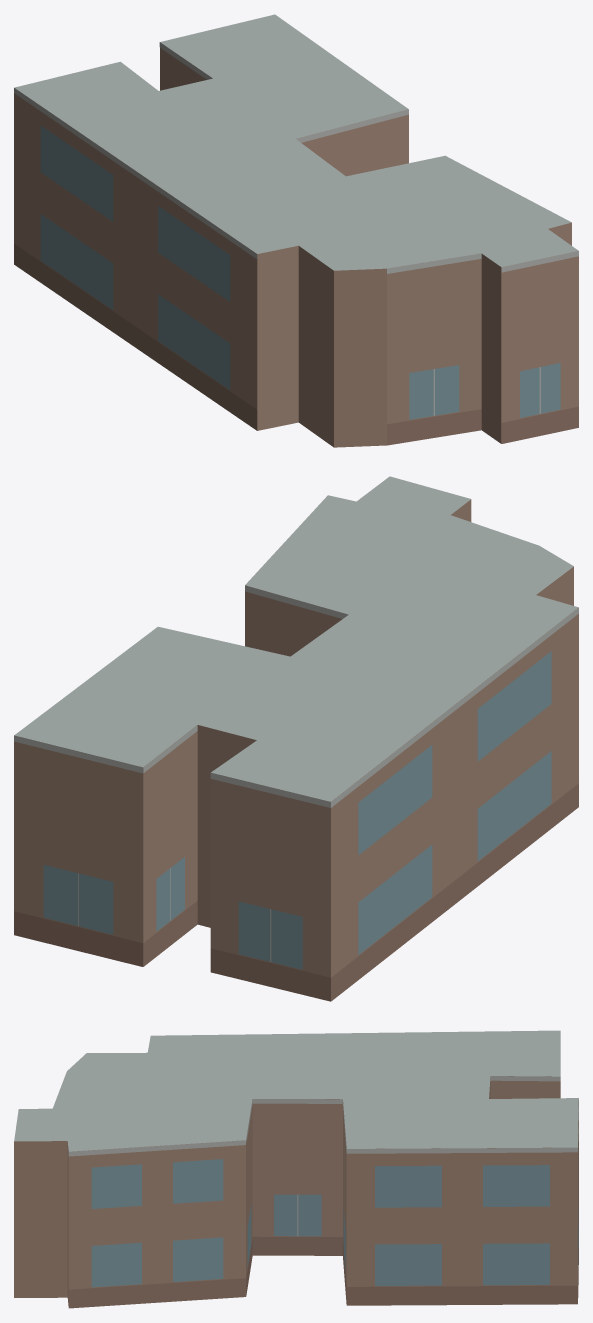
Rendered from survey-upis-32463543.glb.
3 renders of one model, top to bottom at view 1: azimuth 30°, elevation 25°; view 2: azimuth 150°, elevation 25°; view 3: azimuth 270°, elevation 25°, orthographic. The views are drawn at different scales.
Visible parts, largest first — view 1: survey-upis-32463543.tmp; view 2: survey-upis-32463543.tmp; view 3: survey-upis-32463543.tmp.
Boxes of the visible parts, x1,y1,x2,y2 form: survey-upis-32463543.tmp: (14,14,578,447); survey-upis-32463543.tmp: (14,476,578,1001); survey-upis-32463543.tmp: (14,1030,578,1308).
Bounding box in the file's own units: 13.2 × 7.95 × 25.98.
